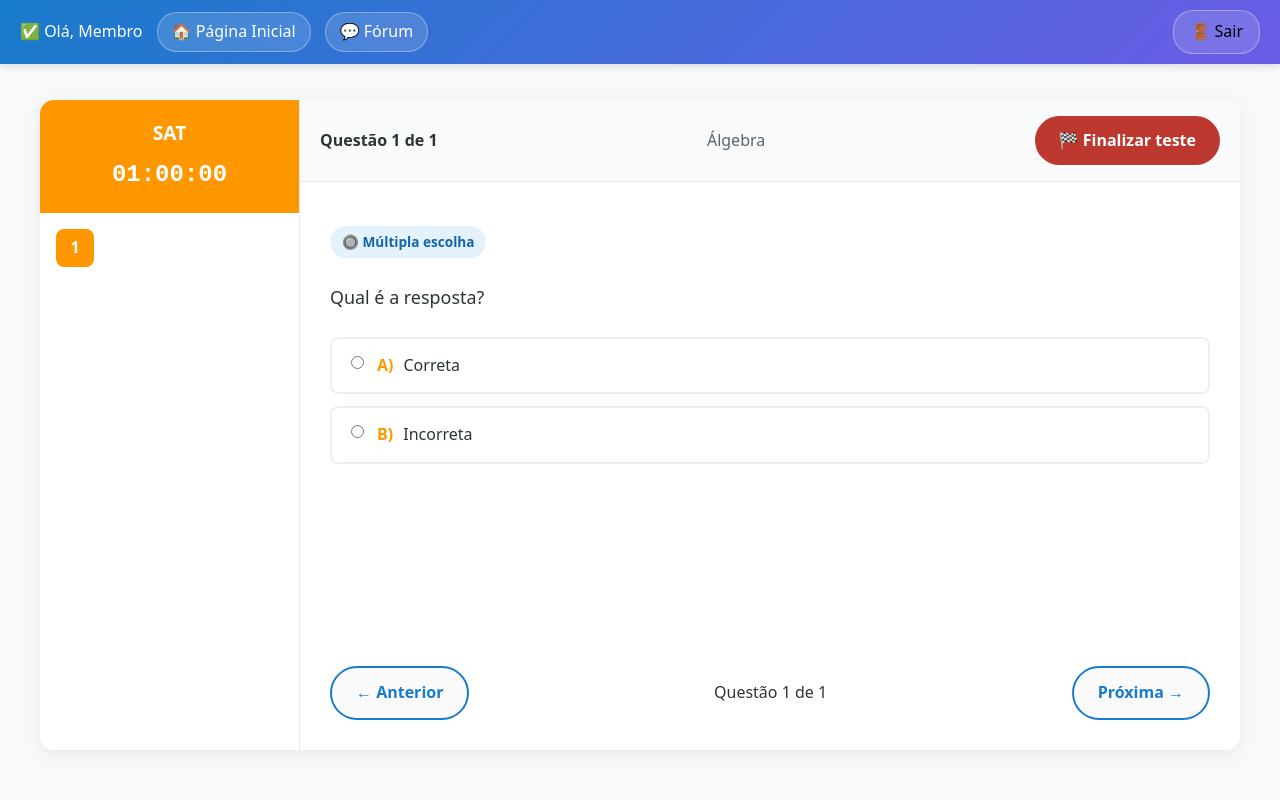
Test: simulator pages › saves a selected answer with CSRF and shows the final score
Click the radio button labelled "A) Correta": (358, 362) [351,356,364,369]
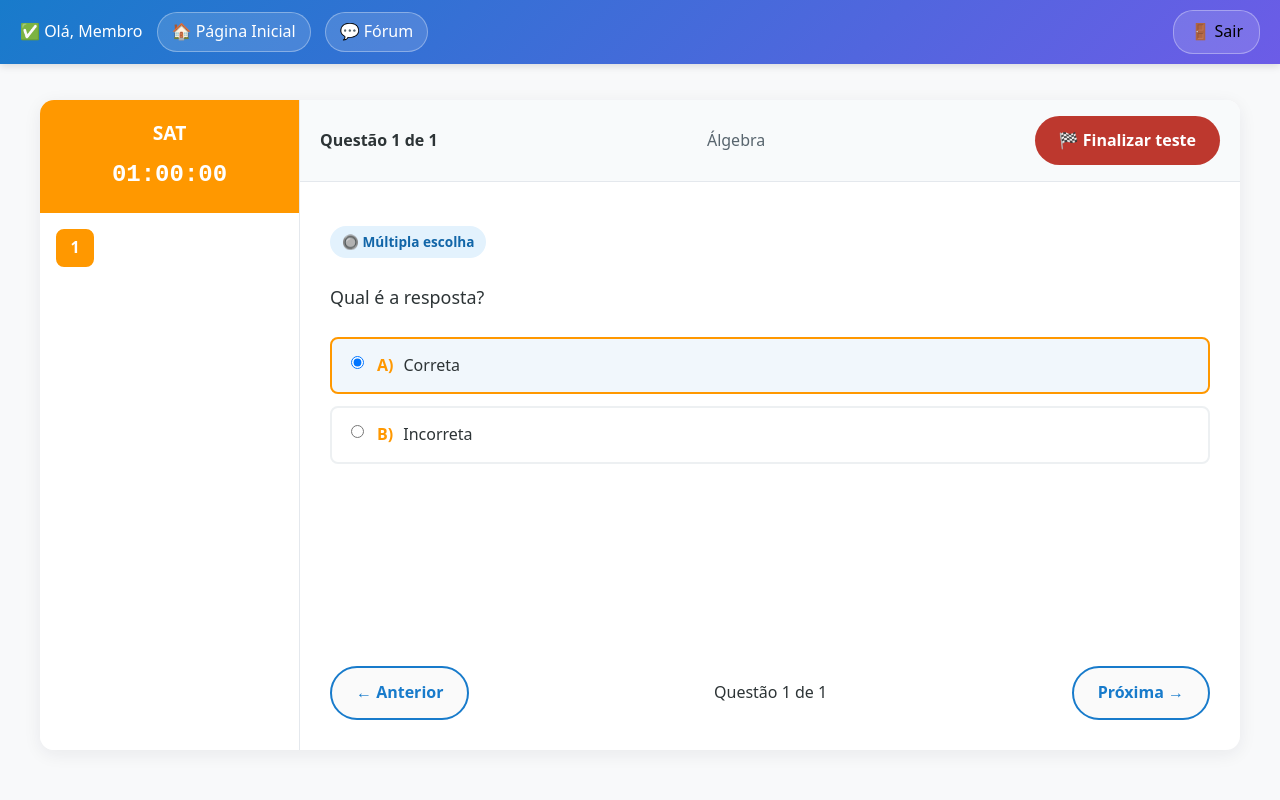
Click the button "🏁 Finalizar teste": (1127, 140) [1035,116,1220,165]
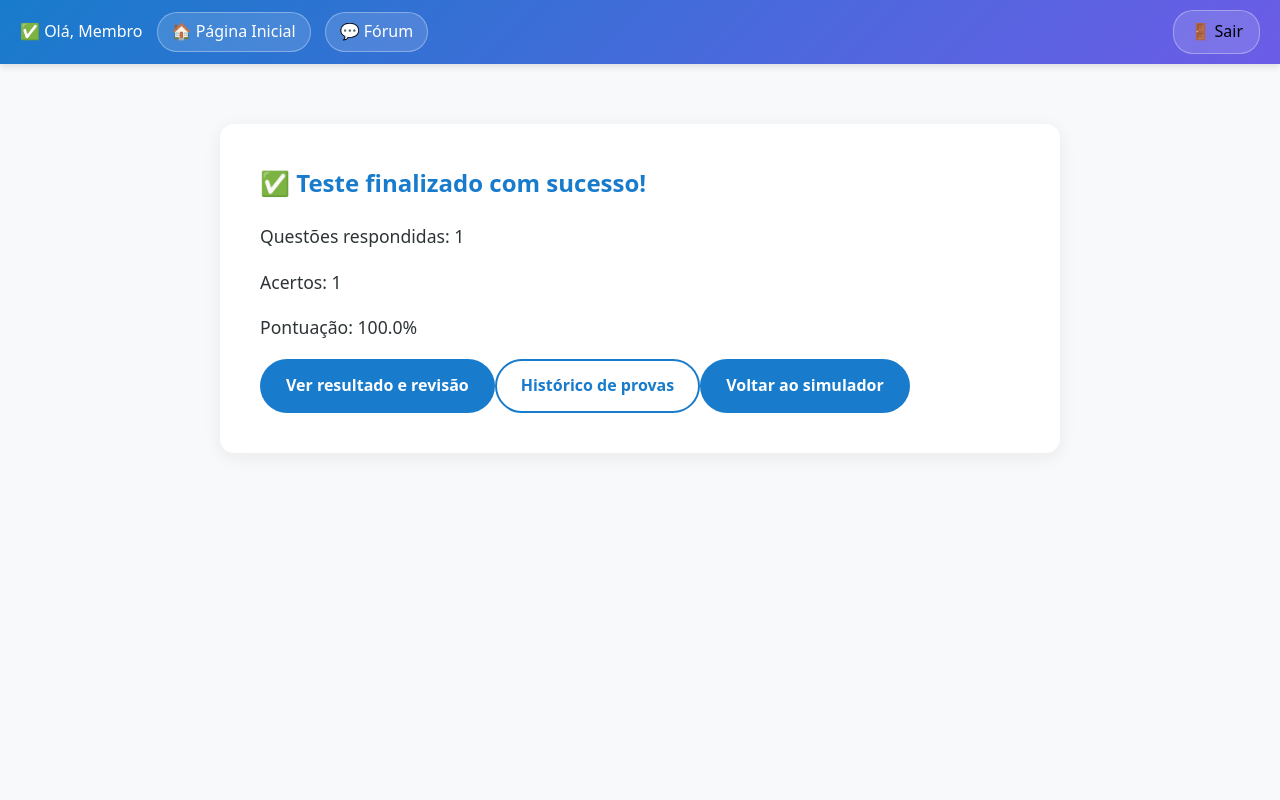
Expected: the text "Pontuação: 100.0%" is shown, [260,315,417,339]
